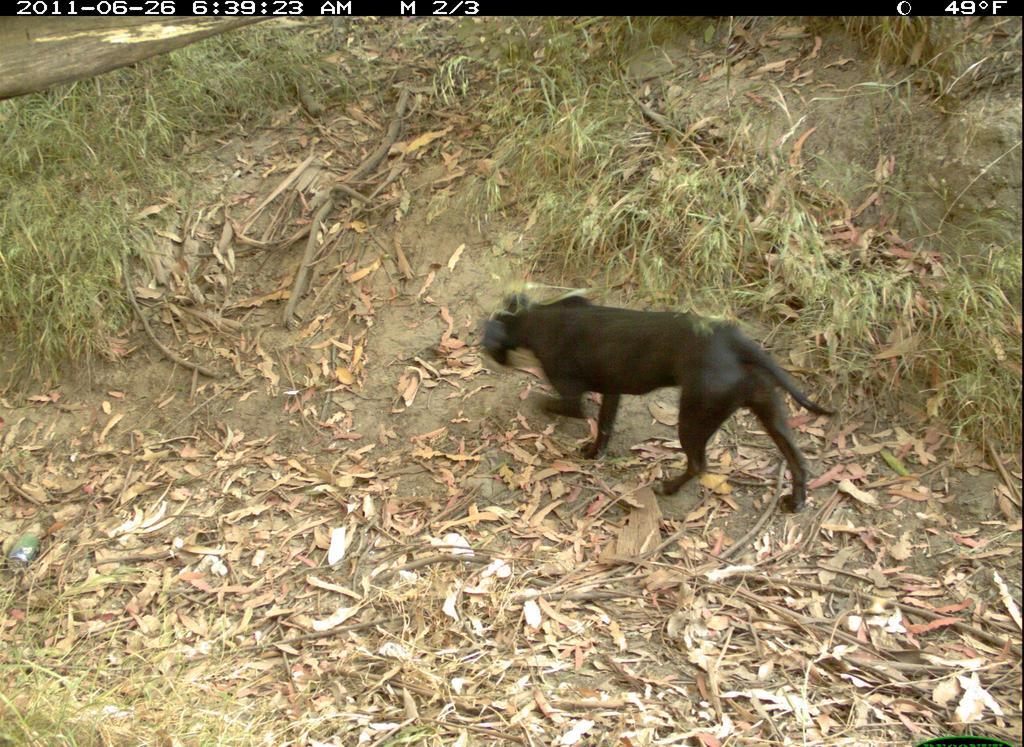dog: (481, 283, 841, 519)
